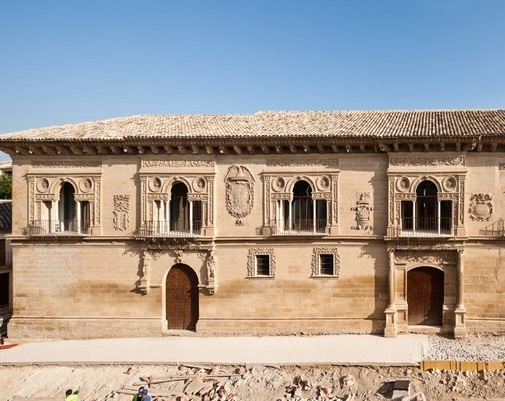arco-medio-punto: (161, 262, 201, 291)
serliana: (268, 173, 335, 237), (394, 173, 458, 238), (145, 172, 207, 239), (29, 174, 94, 237)
